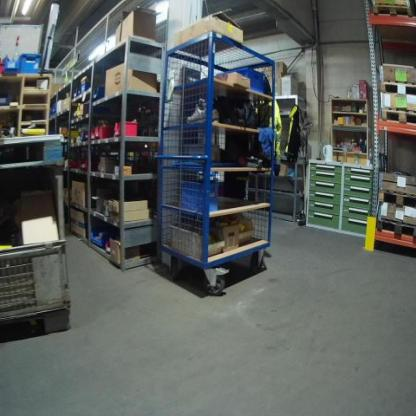pallet: (377, 217, 416, 238), (377, 189, 416, 208), (380, 106, 416, 126), (378, 79, 416, 96), (373, 4, 413, 18)
small_load_carrier: (17, 52, 41, 70)
stillage: (3, 165, 83, 345)
